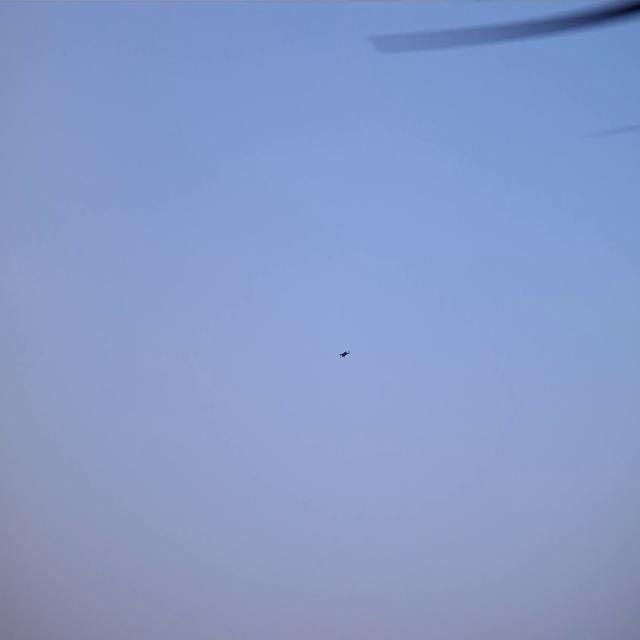UAV: (339, 348, 350, 359)
